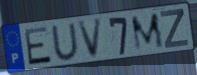7: (108, 16, 129, 56)
E: (22, 25, 53, 67)
M: (129, 11, 166, 54)
U: (50, 21, 81, 62)
V: (76, 17, 104, 61)
Z: (159, 8, 191, 50)
